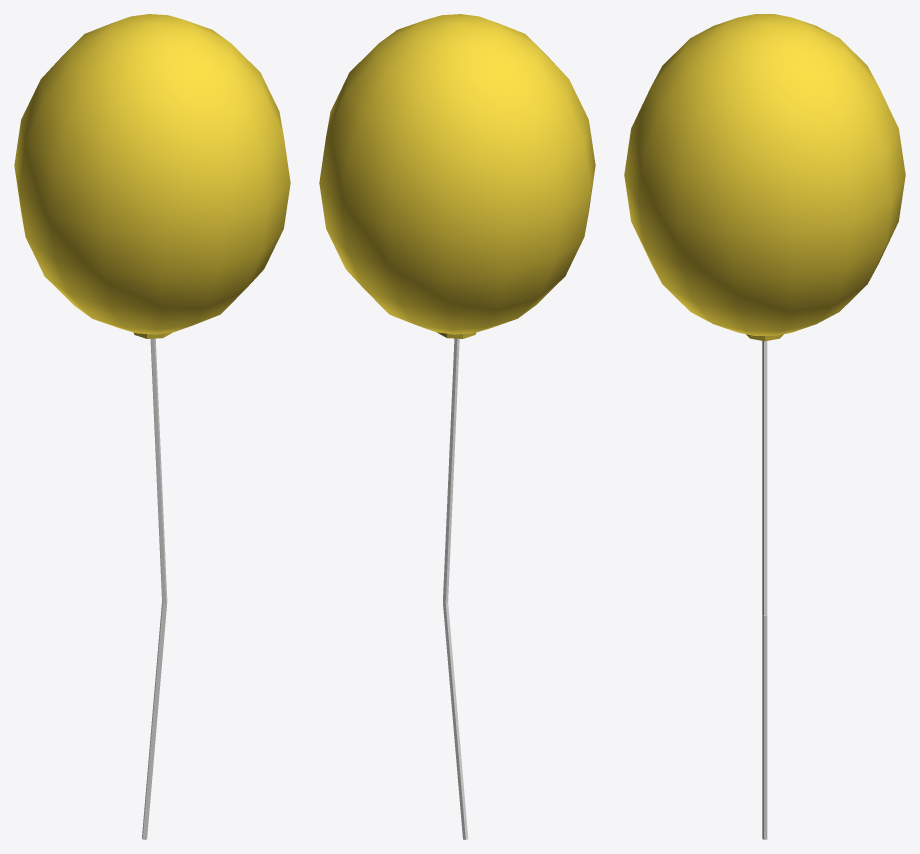
File: balloon_yellow.gltf
The picture shows the model from 3 angles, left to right: view 1: azimuth 30°, elevation 25°; view 2: azimuth 150°, elevation 25°; view 3: azimuth 270°, elevation 25°; orthographic projection.
Parts seen in each view (by area): view 1: balloon_yellow; view 2: balloon_yellow; view 3: balloon_yellow.
Part boxes in pixels (x1,y1,x2,y2): balloon_yellow: (14,14,290,839); balloon_yellow: (319,14,595,839); balloon_yellow: (624,14,905,839).
Bounding box in the file's own units: 0.585 × 1.92 × 0.6.
